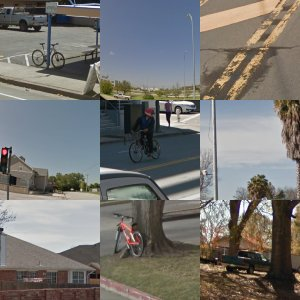公車: (206, 3, 290, 41), (121, 128, 172, 175), (19, 120, 66, 157)
汽車: (26, 79, 44, 98), (3, 84, 23, 101), (58, 85, 81, 99), (126, 104, 149, 118), (250, 254, 269, 270), (226, 254, 245, 268)
自行車: (256, 130, 291, 181), (137, 247, 165, 282), (162, 241, 182, 273)
